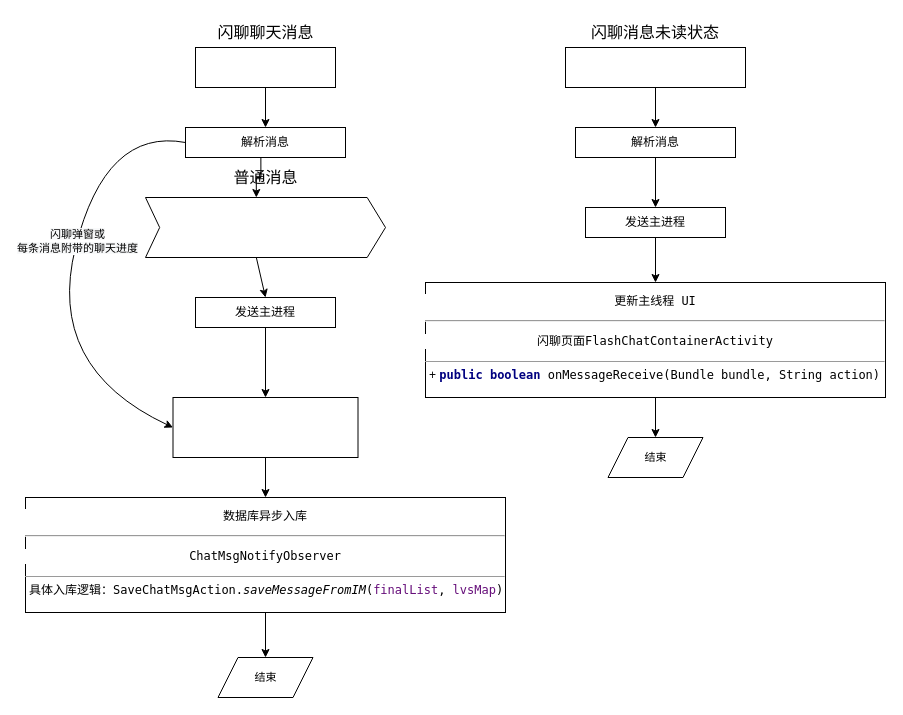
Some shapes in this 903 by 715 pixel diagram are drawn without their labels. Each missing label, with the centre of its shape:
FlashChatHandler: (x=265, y=67)
FlashChatSetHandler: (x=655, y=67)
更新主线程 UI ChatMsgNotifyObserver: (x=265, y=427)
消息缓冲队列 DeBounceObserver<Message>: (x=265, y=227)
